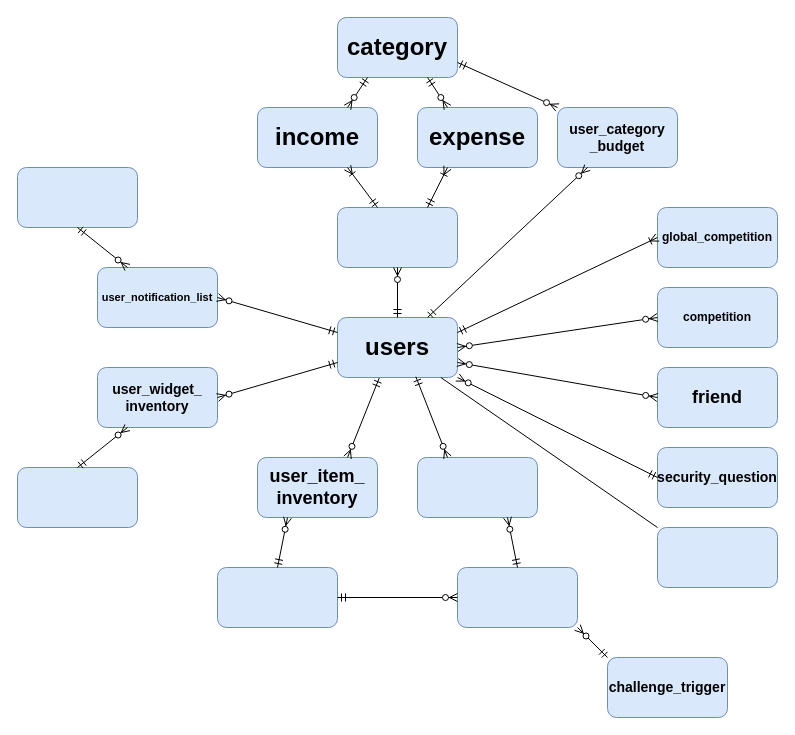
This 795x735 diagram has some shape labels left out. The shapes that lost their labels are listed below. From the top down, each one's centre as x and y in pixels, then its label:
point 77,197: notification
point 397,237: receipt
point 77,497: widget
point 477,487: user_challenge_ inventory
point 717,557: experience
point 277,597: item
point 517,597: challenge
